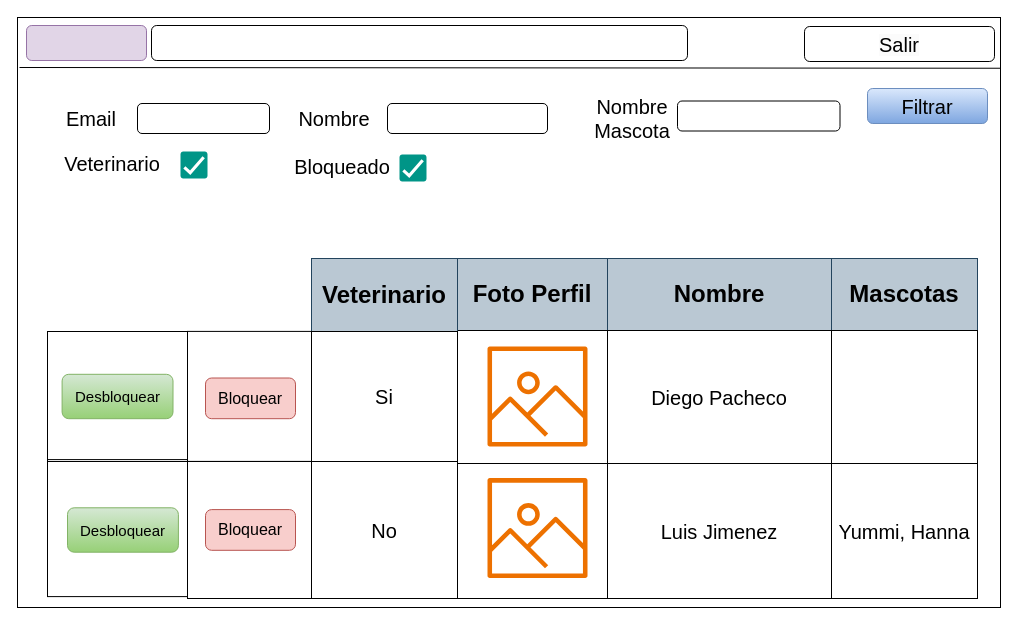
This 1019x625 diagram has some shape labels left out. The shapes that lost their labels are listed below. From the top down, each one's centre as x and y in pixels, then its label:
the point at 86,42: Usuarios
the point at 419,42: NAVEGADOR
